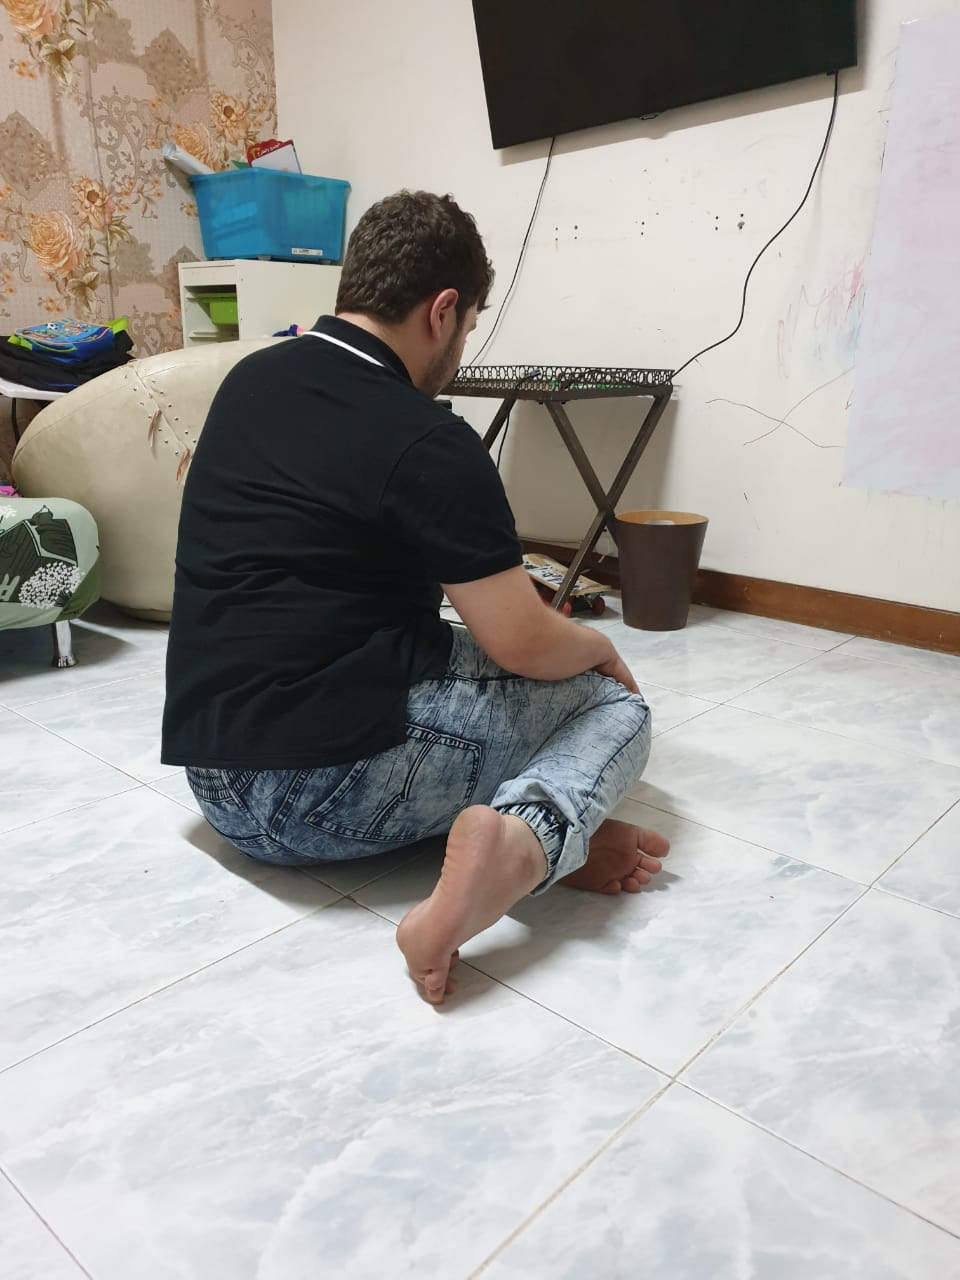sitting: (157, 172, 676, 1019)
